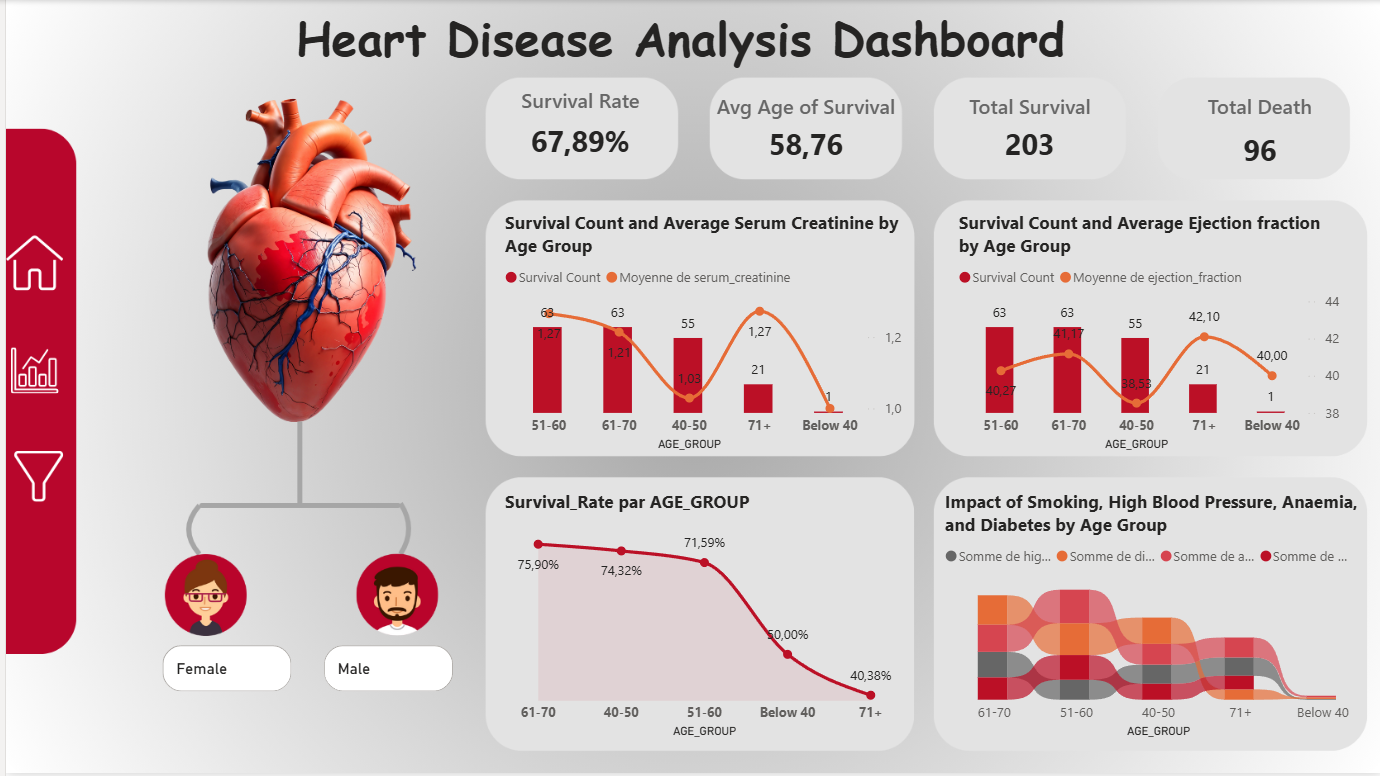

Layout of this report page (visuals, bound fields, positions):
{"tool":"powerbi","page":{"name":"Page 1","canvas":[1280,720],"ordinal":0},"visuals":[{"type":"textbox","box":[265.1,0,748.8,80.2],"z":0},{"type":"card","title":"Survival Rate","fields":{"Values":["heart_Disease_clinical_records_.Survival_Rate"]},"box":[458.8,80,150,80],"z":1000},{"type":"card","title":"Avg Age of Survival","fields":{"Values":["heart_Disease_clinical_records_.Average_Age_Survival"]},"box":[652.5,86.2,183.8,73.8],"z":2000},{"type":"card","title":"Total Survival","fields":{"Values":["heart_Disease_clinical_records_.Total_Surviour"]},"box":[857.5,86.2,191.2,73.8],"z":3000},{"type":"card","title":"Total Death","fields":{"Values":["heart_Disease_clinical_records_.Total_Death"]},"box":[1065,86.2,202.5,85],"z":4000},{"type":"lineClusteredColumnComboChart","title":"Survival Count and Average Serum Creatinine by Age Group","fields":{"Category":["heart_Disease_clinical_records_.AGE_GROUP"],"Y":["CountNonNull(heart_Disease_clinical_records_.DEATH_EVENT)"],"Y2":["Avg(heart_Disease_clinical_records_.serum_creatinine)"]},"box":[458.8,195,381.2,228.8],"z":5000},{"type":"lineClusteredColumnComboChart","title":"Survival Count and Average Ejection fraction by Age Group","fields":{"Category":["heart_Disease_clinical_records_.AGE_GROUP"],"Y":["CountNonNull(heart_Disease_clinical_records_.DEATH_EVENT)"],"Y2":["Avg(heart_Disease_clinical_records_.ejection_fraction)"]},"box":[881.2,195,365,228.8],"z":6000},{"type":"lineChart","fields":{"Category":["heart_Disease_clinical_records_.AGE_GROUP"],"Y":["heart_Disease_clinical_records_.Survival_Rate"]},"box":[458.8,455,381.2,236.2],"z":7000},{"type":"ribbonChart","title":"Impact of Smoking, High Blood Pressure, Anaemia, and Diabetes by Age Group","fields":{"Category":["heart_Disease_clinical_records_.AGE_GROUP"],"Y":["Sum(heart_Disease_clinical_records_.high_blood_pressure)","Sum(heart_Disease_clinical_records_.diabetes)","Sum(heart_Disease_clinical_records_.anaemia)","Sum(heart_Disease_clinical_records_.smoking)"]},"box":[868.8,455,407.5,236.2],"z":8000},{"type":"advancedSlicerVisual","fields":{"Values":["heart_Disease_clinical_records_.Gender"]},"box":[141.2,595,281.2,53.8],"z":9000}]}

Visuals, with their boxes in screenshot pixels (x1, y1, x2, y2), scaled from the page's 1280x720 canvas onto the 1380x776 screenshot:
textbox: [286,0,1093,86]
"Survival Rate" card: [495,86,656,172]
"Avg Age of Survival" card: [703,93,902,172]
"Total Survival" card: [924,93,1131,172]
"Total Death" card: [1148,93,1367,185]
"Survival Count and Average Serum Creatinine by Age Group" lineClusteredColumnComboChart: [495,210,906,457]
"Survival Count and Average Ejection fraction by Age Group" lineClusteredColumnComboChart: [950,210,1344,457]
lineChart - heart_Disease_clinical_records_.AGE_GROUP x heart_Disease_clinical_records_.Survival_Rate: [495,490,906,745]
"Impact of Smoking, High Blood Pressure, Anaemia, and Diabetes by Age Group" ribbonChart: [937,490,1376,745]
advancedSlicerVisual - heart_Disease_clinical_records_.Gender: [152,641,455,699]
